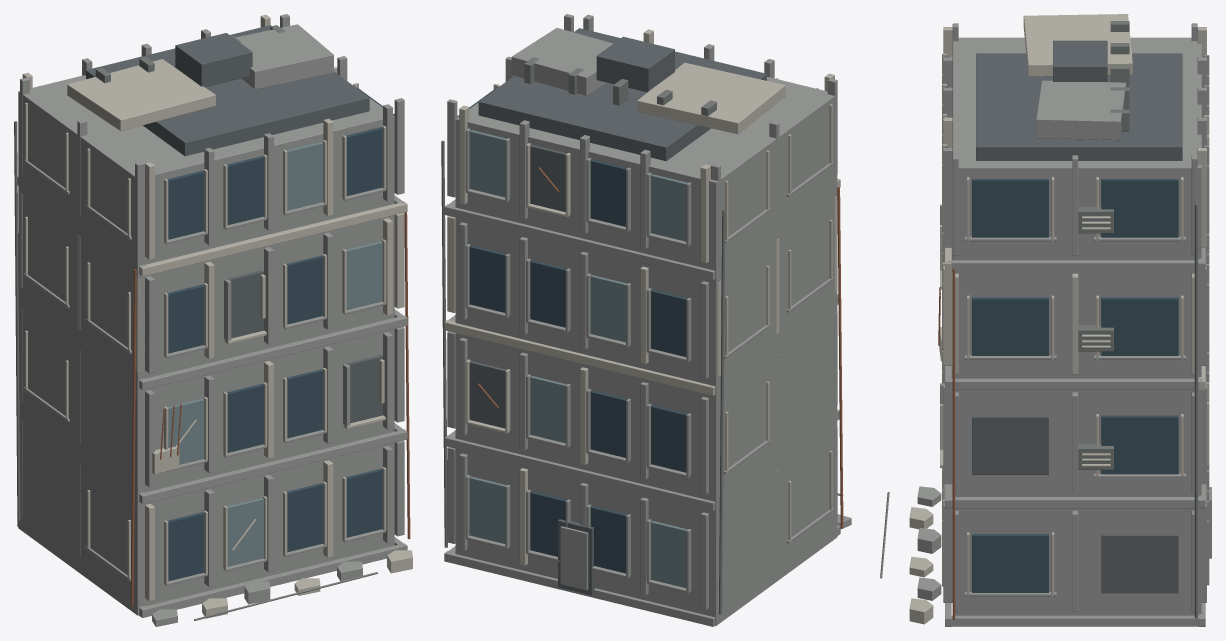
Rendered from Apoc_Building_07_Collapsed_Depot_Midrise.fbx.
3 views of the same model, side by side, from view 1: azimuth 30°, elevation 25°; view 2: azimuth 150°, elevation 25°; view 3: azimuth 270°, elevation 25° (orthographic). The views are drawn at different scales.
Parts seen in each view (by area): view 1: Apoc_Building_07_Collapsed_Depot_Midrise; view 2: Apoc_Building_07_Collapsed_Depot_Midrise; view 3: Apoc_Building_07_Collapsed_Depot_Midrise.
Part boxes in pixels (x1=…): Apoc_Building_07_Collapsed_Depot_Midrise: x1=14, y1=14, x2=412, y2=626; Apoc_Building_07_Collapsed_Depot_Midrise: x1=441, y1=14, x2=851, y2=626; Apoc_Building_07_Collapsed_Depot_Midrise: x1=880, y1=14, x2=1211, y2=626.
Bounding box in the file's own units: 6.75 × 11.28 × 6.67.
